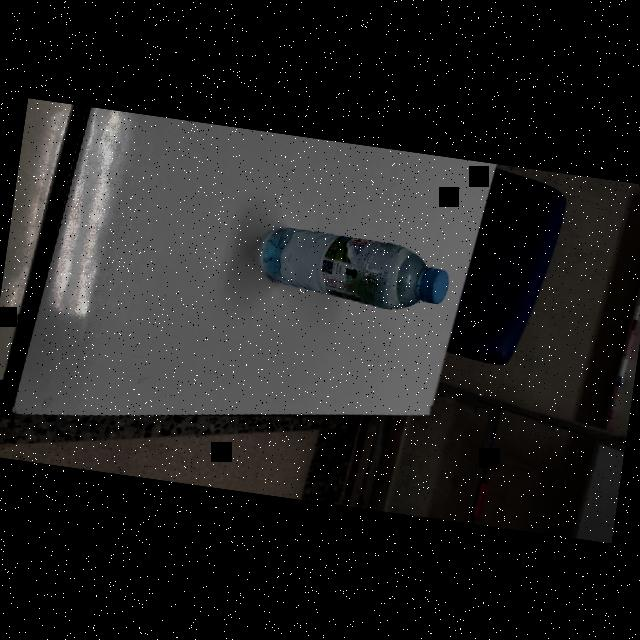plastic_bottle: (250, 215, 458, 318)
plastic_bottle_cap: (416, 264, 452, 304)
